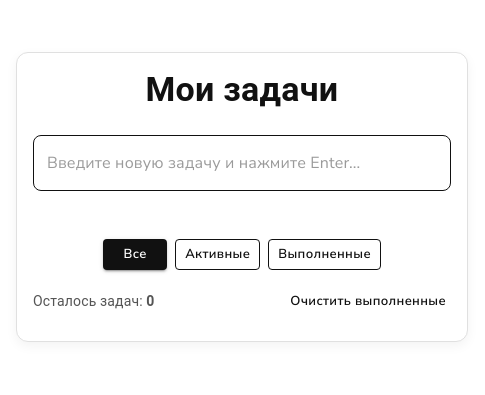
Scenario: TodoApp › добавление новой задачи
The width and height of the screenshot is (485, 395).
Type "Новая задача" into the field with placeholder "Введите новую задачу и нажмите Enter..." at (242, 163), box [33,135,451,191]
Then press Enter
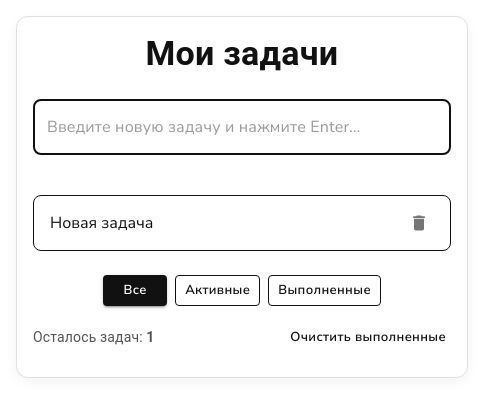
Expected: the text "Новая задача" is shown, [50,212,154,234]
